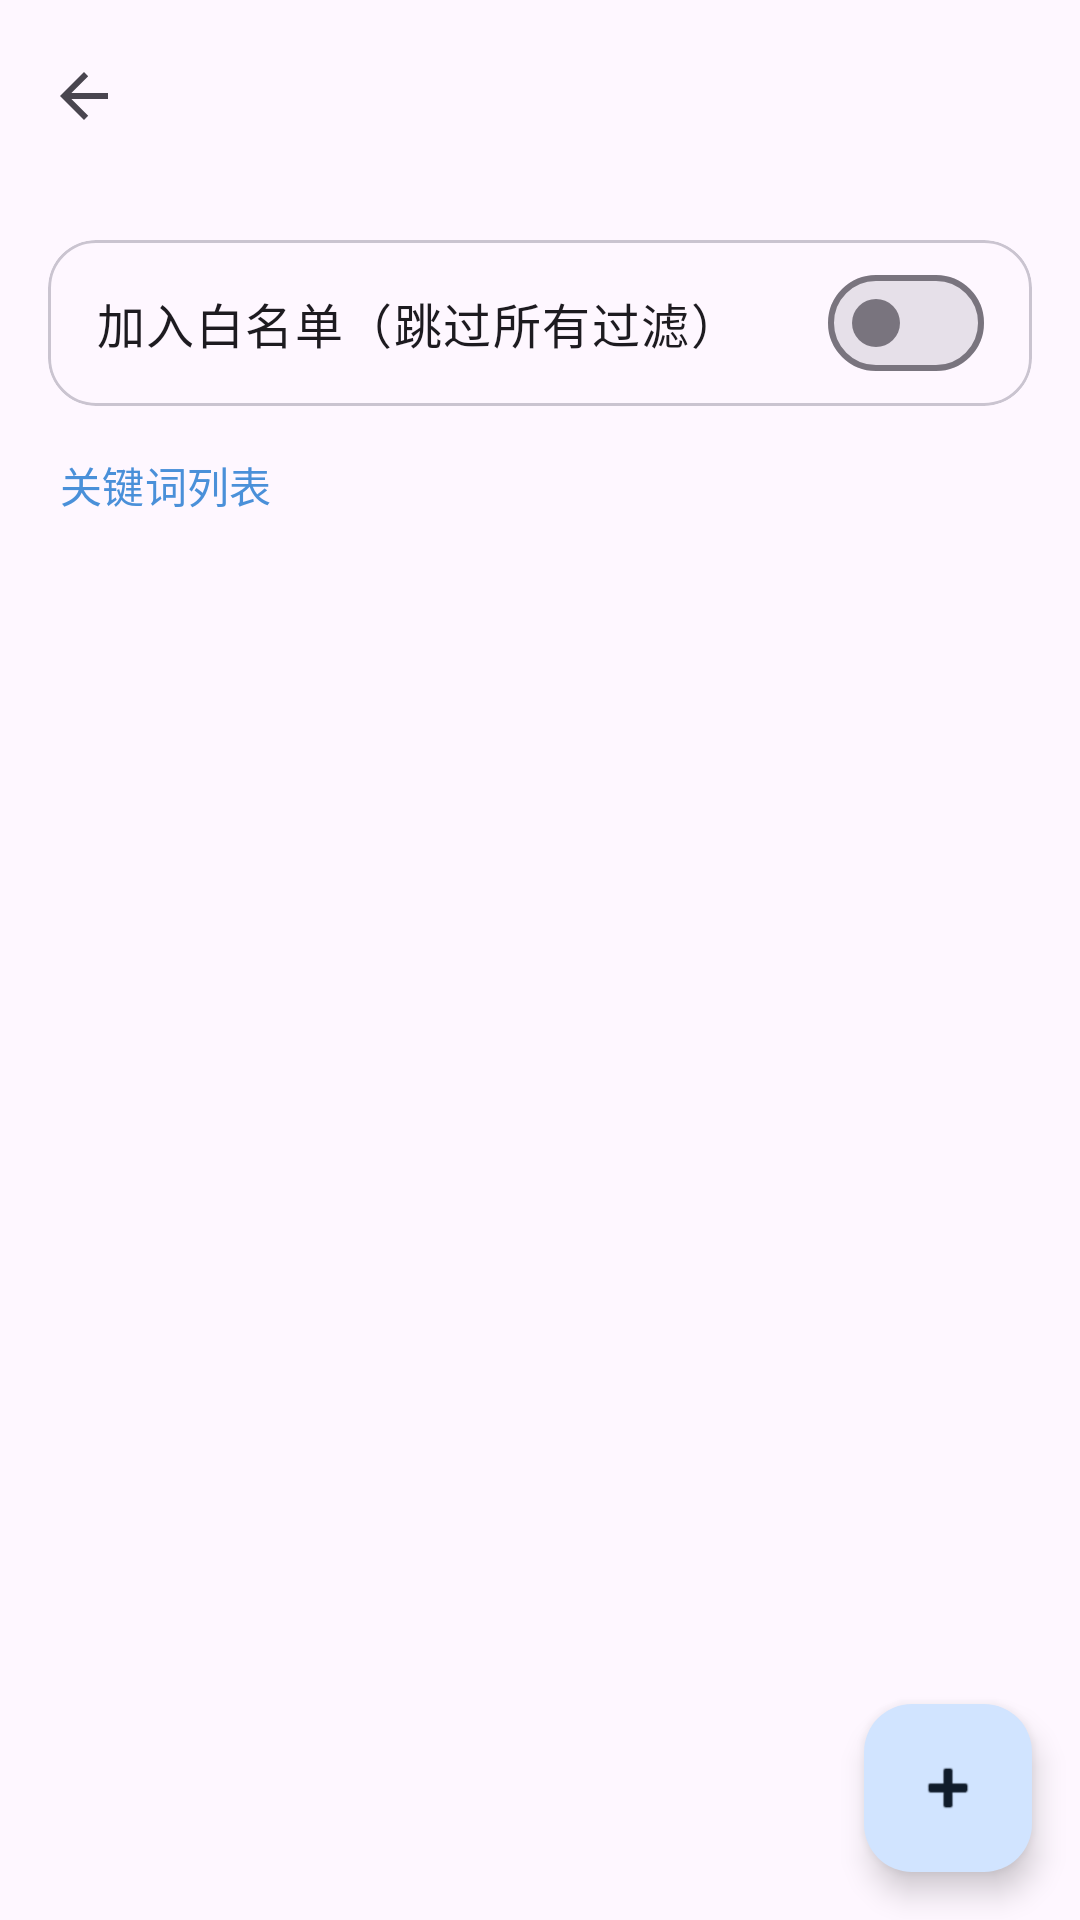

Screen size 1080w x 1920h. Icon name, then its center in pixels as (x=x, y=y):
添加关键词: (x=948, y=1788)
